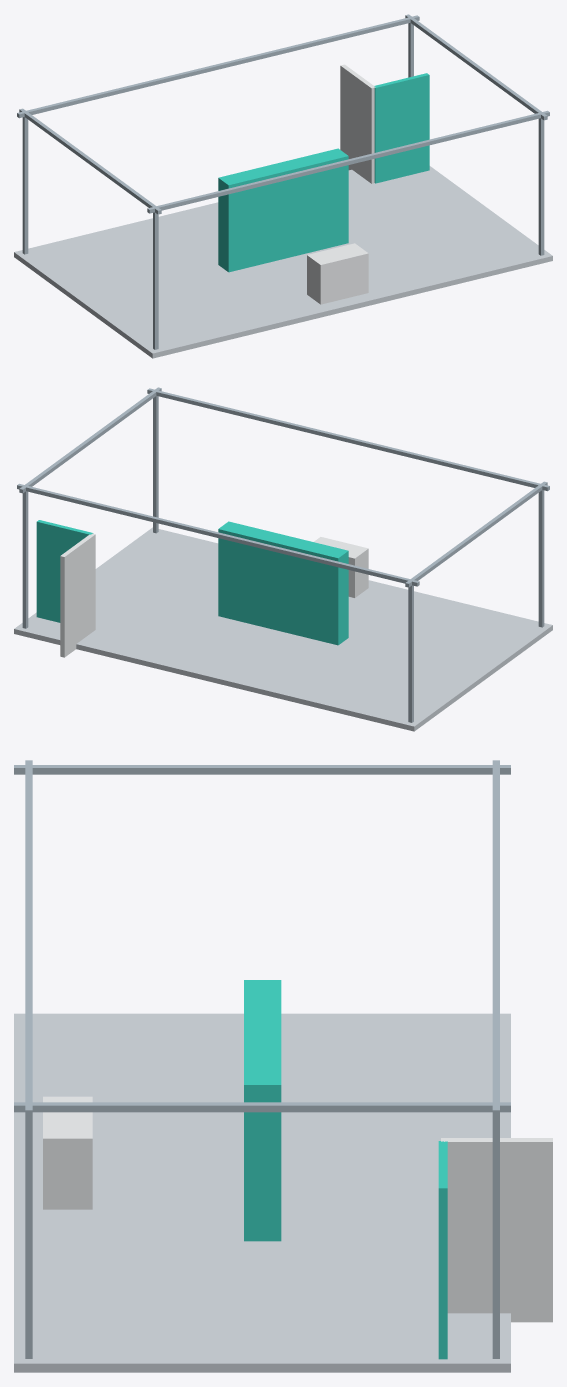
3 renders of one model, top to bottom at view 1: azimuth 30°, elevation 25°; view 2: azimuth 150°, elevation 25°; view 3: azimuth 270°, elevation 25°, orthographic. The views are drawn at different scales.
Visible parts, largest first — view 1: Exhibition Booth Concept; view 2: Exhibition Booth Concept; view 3: Exhibition Booth Concept.
Boxes of the visible parts, box(x1,y1,x2,y2) form: Exhibition Booth Concept: box(14, 14, 552, 358); Exhibition Booth Concept: box(14, 387, 552, 731); Exhibition Booth Concept: box(14, 760, 552, 1372).
Bounding box in the file's own units: 10 × 3.49 × 6.51.
